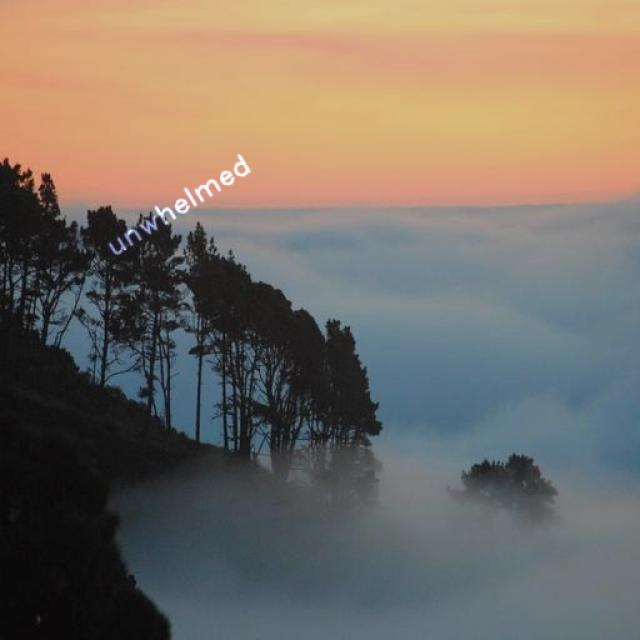watermark: (105, 147, 252, 261)
